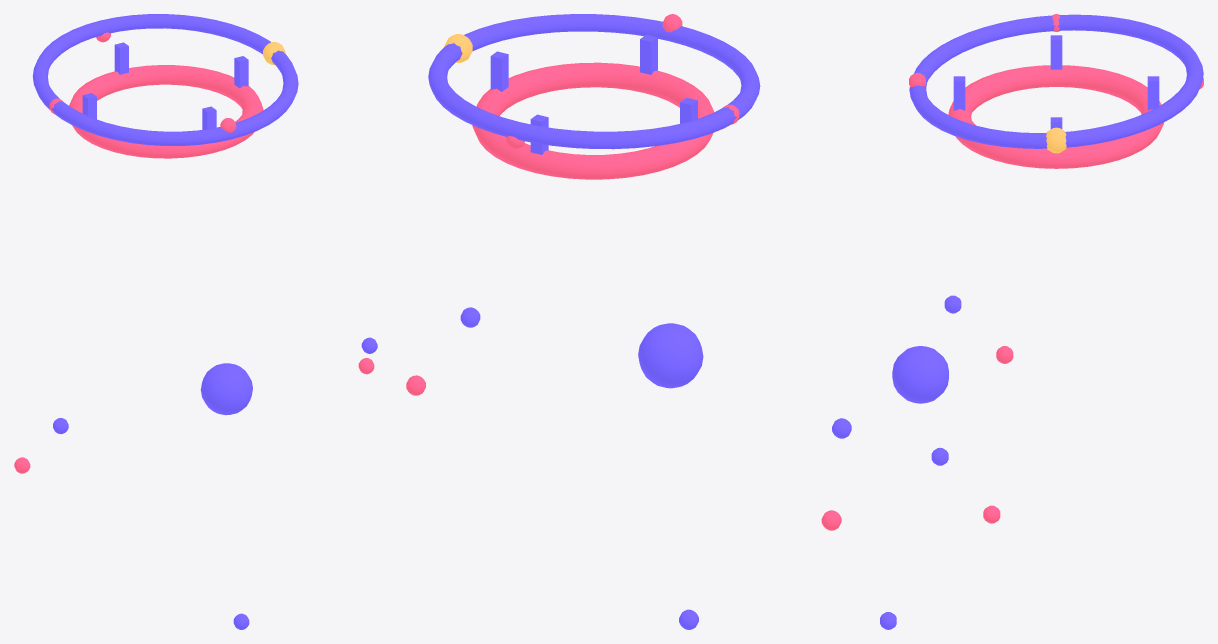
Rendered from avatar-nebulosa-kit-boss-final.glb.
3 views of the same model, side by side, from view 1: azimuth 30°, elevation 25°; view 2: azimuth 150°, elevation 25°; view 3: azimuth 270°, elevation 25° (orthographic). The views are drawn at different scales.
Visible parts, largest first — view 1: kit_nebulosa_boss-final_halo, kit_nebulosa_boss-final_crownRing, kit_nebulosa_boss-final_core; view 2: kit_nebulosa_boss-final_halo, kit_nebulosa_boss-final_crownRing, kit_nebulosa_boss-final_core, kit_nebulosa_boss-final_crownSpike0, kit_nebulosa_boss-final_crownSpike1; view 3: kit_nebulosa_boss-final_halo, kit_nebulosa_boss-final_crownRing, kit_nebulosa_boss-final_core, kit_nebulosa_boss-final_haloAccentAmber, kit_nebulosa_boss-final_crownSpike2.
Boxes of the visible parts, bbox=[...] form: kit_nebulosa_boss-final_halo: bbox=[32, 14, 298, 145]; kit_nebulosa_boss-final_crownRing: bbox=[69, 65, 263, 158]; kit_nebulosa_boss-final_core: bbox=[200, 363, 252, 415]; kit_nebulosa_boss-final_halo: bbox=[428, 14, 760, 149]; kit_nebulosa_boss-final_crownRing: bbox=[472, 62, 714, 179]; kit_nebulosa_boss-final_core: bbox=[638, 323, 703, 388]; kit_nebulosa_boss-final_crownSpike0: bbox=[490, 51, 508, 91]; kit_nebulosa_boss-final_crownSpike1: bbox=[640, 34, 657, 74]; kit_nebulosa_boss-final_halo: bbox=[909, 14, 1203, 148]; kit_nebulosa_boss-final_crownRing: bbox=[948, 65, 1163, 168]; kit_nebulosa_boss-final_core: bbox=[892, 346, 948, 403]; kit_nebulosa_boss-final_haloAccentAmber: bbox=[1046, 127, 1066, 153]; kit_nebulosa_boss-final_crownSpike2: bbox=[1050, 35, 1062, 69].
Bounding box in the file's own units: 0.6973 × 0.9599 × 0.501.
